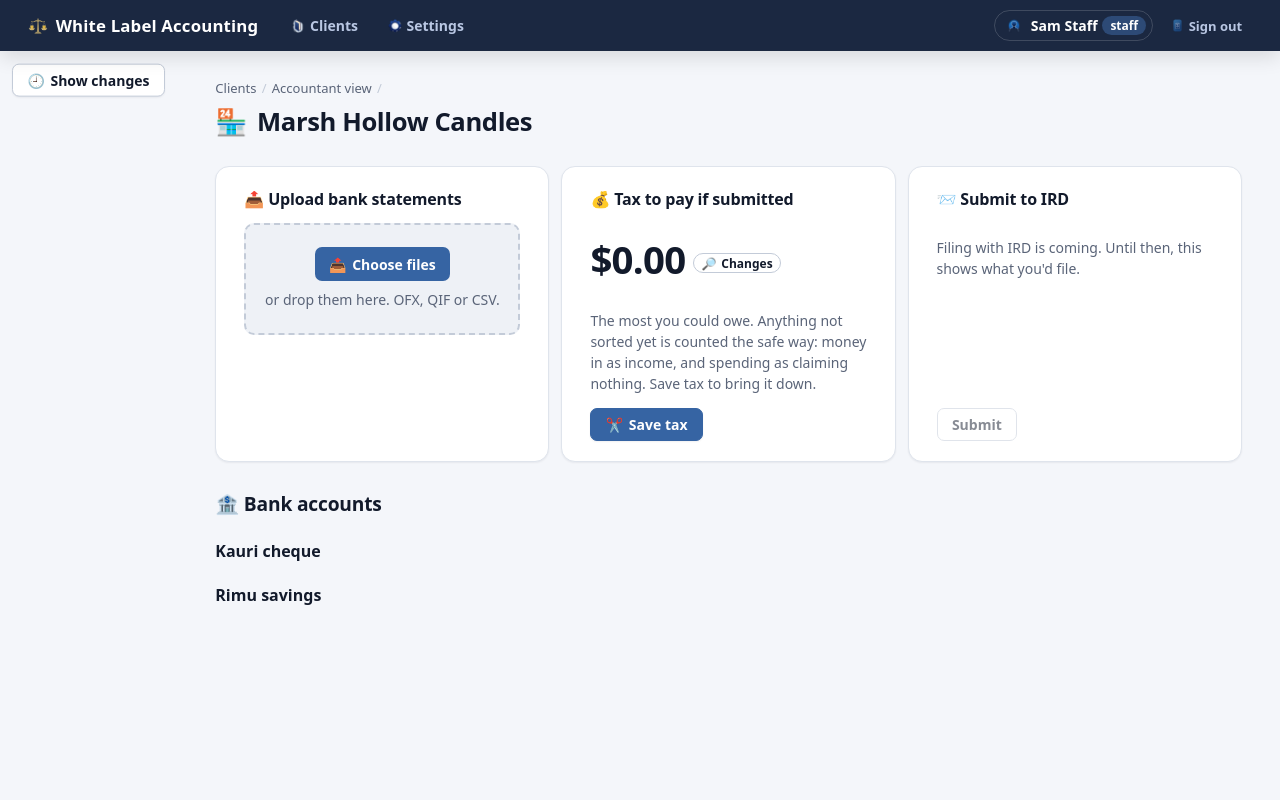
Test: save tax › opens from the business screen
Step 1. Click the button "✂️ Save tax" → [647, 425], box [590, 408, 703, 441]
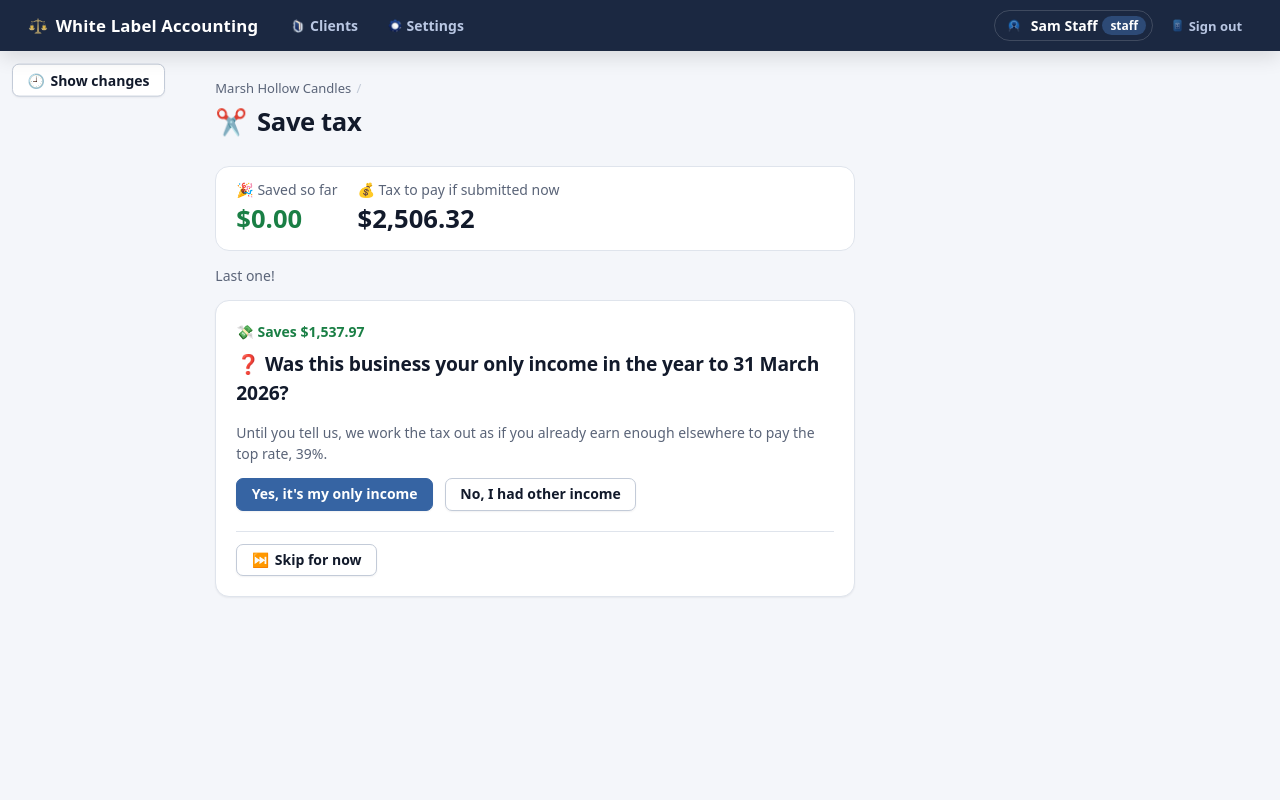
Now the heading "Was this business your only income" is shown, box [265, 350, 626, 377]
